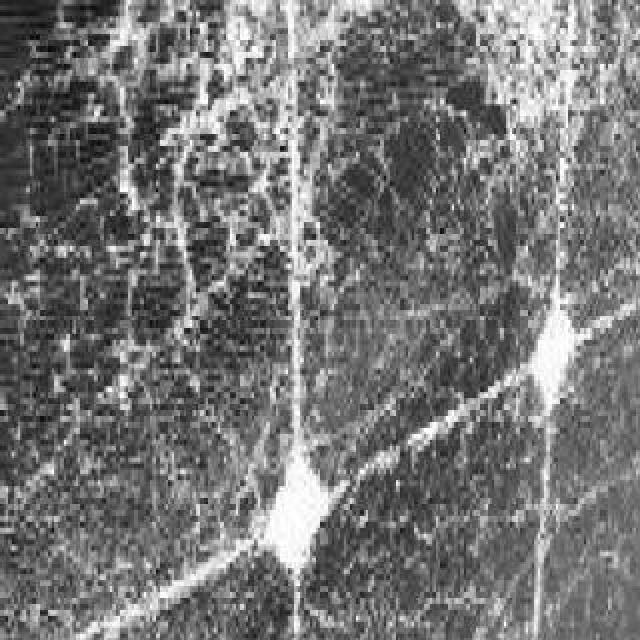Physical-damage: (206, 3, 288, 75), (478, 5, 564, 73), (274, 15, 344, 75)
